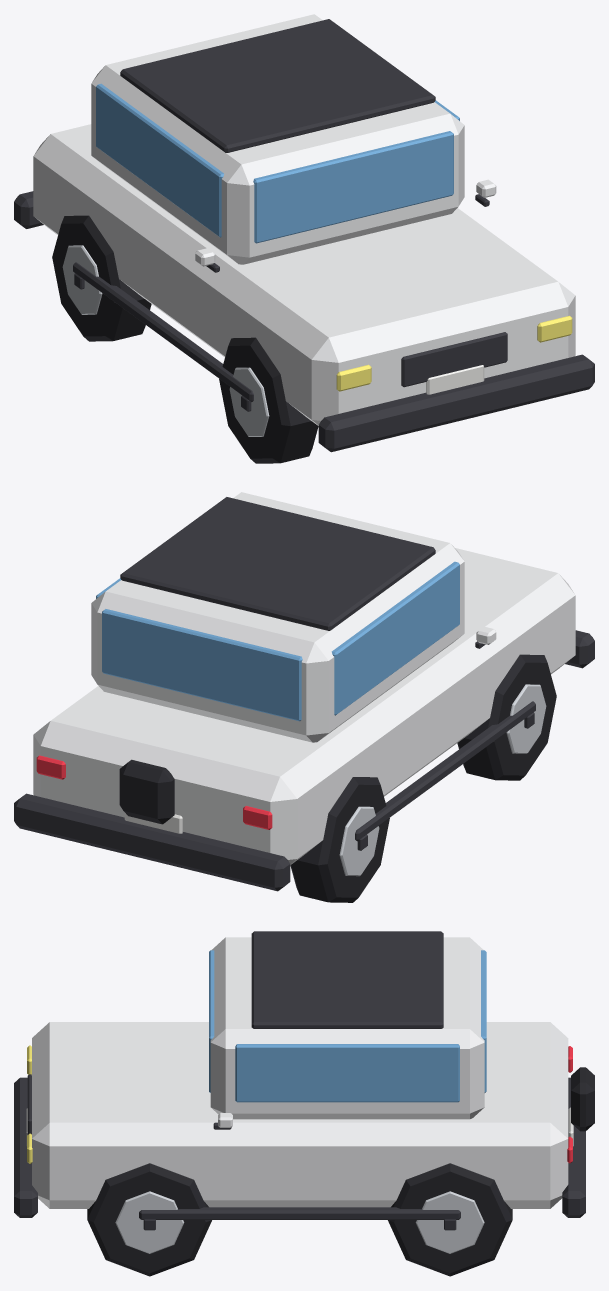
Rendered from WhiteJeep.fbx.
3 renders of one model, top to bottom at view 1: azimuth 30°, elevation 25°; view 2: azimuth 150°, elevation 25°; view 3: azimuth 270°, elevation 25°, orthographic. The views are drawn at different scales.
Parts seen in each view (by area): view 1: WhiteJeep, WhiteJeep_WheelFR, WhiteJeep_WheelBR; view 2: WhiteJeep, WhiteJeep_WheelBR, WhiteJeep_WheelFR; view 3: WhiteJeep, WhiteJeep_WheelFL, WhiteJeep_WheelBL.
Boxes of the visible parts, box(x1,y1,x2,y2) form: WhiteJeep: box(14, 14, 594, 452); WhiteJeep_WheelFR: box(219, 337, 318, 463); WhiteJeep_WheelBR: box(52, 215, 151, 341); WhiteJeep: box(14, 492, 594, 891); WhiteJeep_WheelBR: box(290, 777, 389, 902); WhiteJeep_WheelFR: box(457, 654, 556, 780); WhiteJeep: box(14, 931, 594, 1219); WhiteJeep_WheelFL: box(87, 1163, 211, 1276); WhiteJeep_WheelBL: box(388, 1163, 512, 1276).
Bounding box in the file's own units: 5.15 × 4.48 × 9.75.
1 material, 1 textured.
